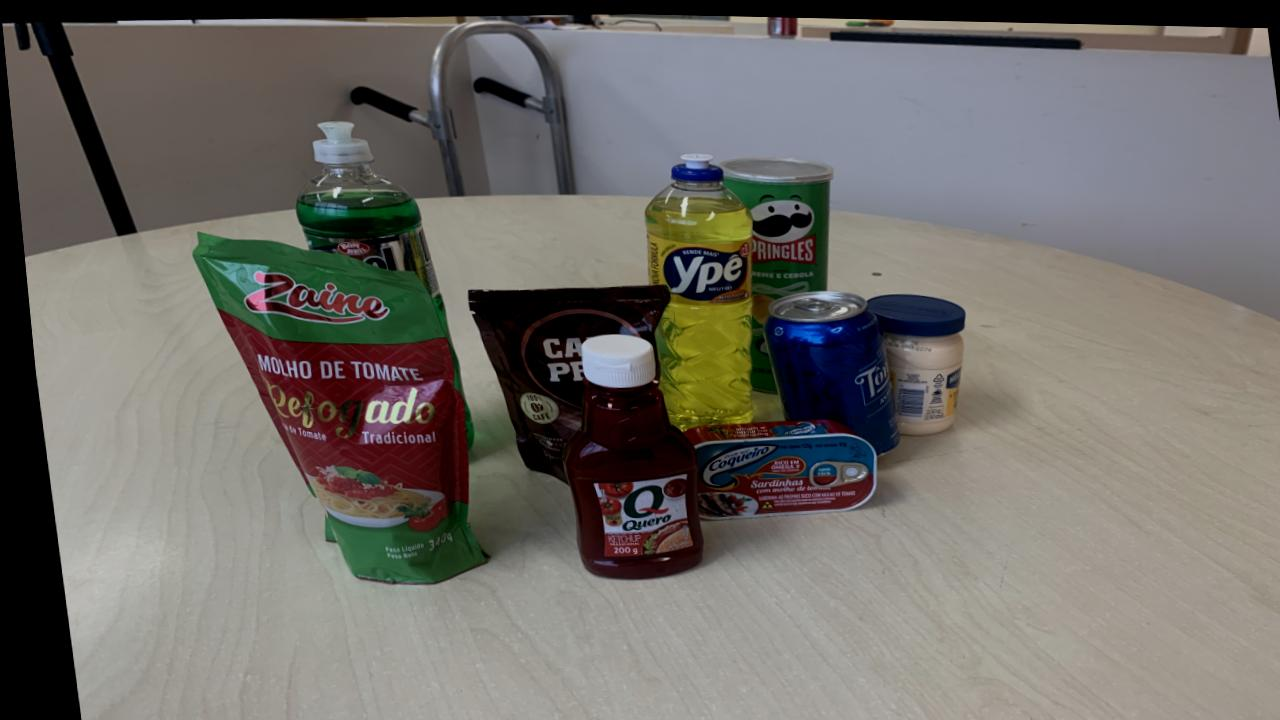Coffee-Pantry_Items: (461, 281, 664, 478)
Detergent-Cleanup_Items: (292, 120, 440, 326), (640, 151, 749, 427)
Ketchup-Pantry_Items: (554, 333, 693, 577)
Mayonnaise-Pantry_Items: (861, 290, 959, 431)
Pringles-Snacks: (717, 153, 830, 388)
Tomato_Sauce-Pantry_Items: (189, 233, 475, 583)
Tonic-Drinks: (757, 287, 891, 448)
Tuna_Can-Pantry_Items: (676, 415, 869, 517)
